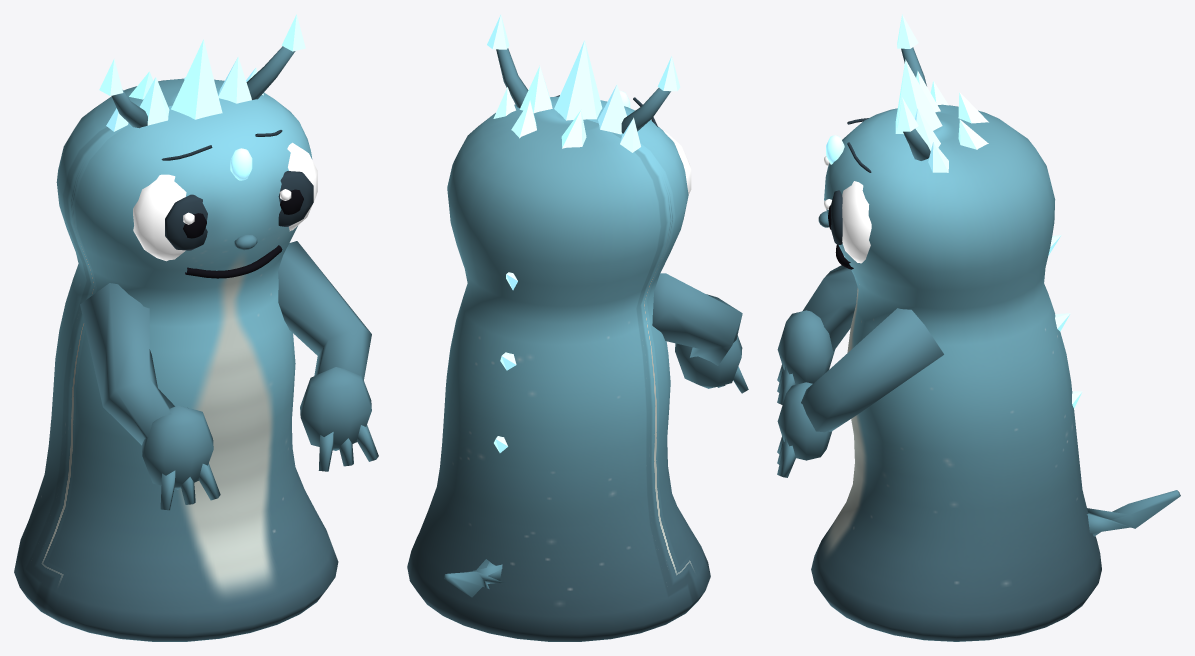
The model's file is helada_pixar.glb.
3 renders of one model, left to right at view 1: azimuth 30°, elevation 25°; view 2: azimuth 150°, elevation 25°; view 3: azimuth 270°, elevation 25°, orthographic. The views are drawn at different scales.
Parts seen in each view (by area): view 1: helada_cuerpo; view 2: helada_cuerpo; view 3: helada_cuerpo.
Boxes of the visible parts, box(x1,y1,x2,y2) form: helada_cuerpo: box(14, 14, 378, 641); helada_cuerpo: box(407, 14, 748, 641); helada_cuerpo: box(777, 14, 1180, 641).
Size of the model in its own units: 0.3061 by 0.58 by 0.4043.
5 materials, 1 textured.
